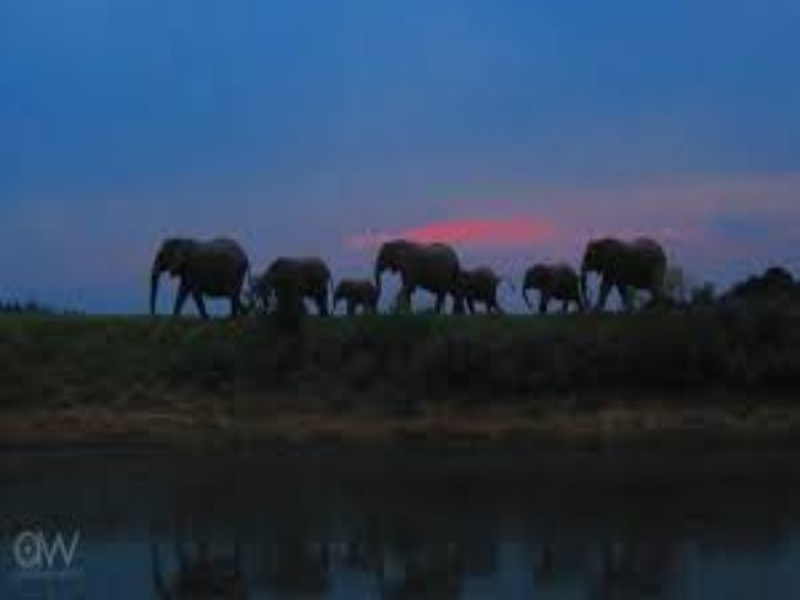elephant: (361, 226, 471, 318)
